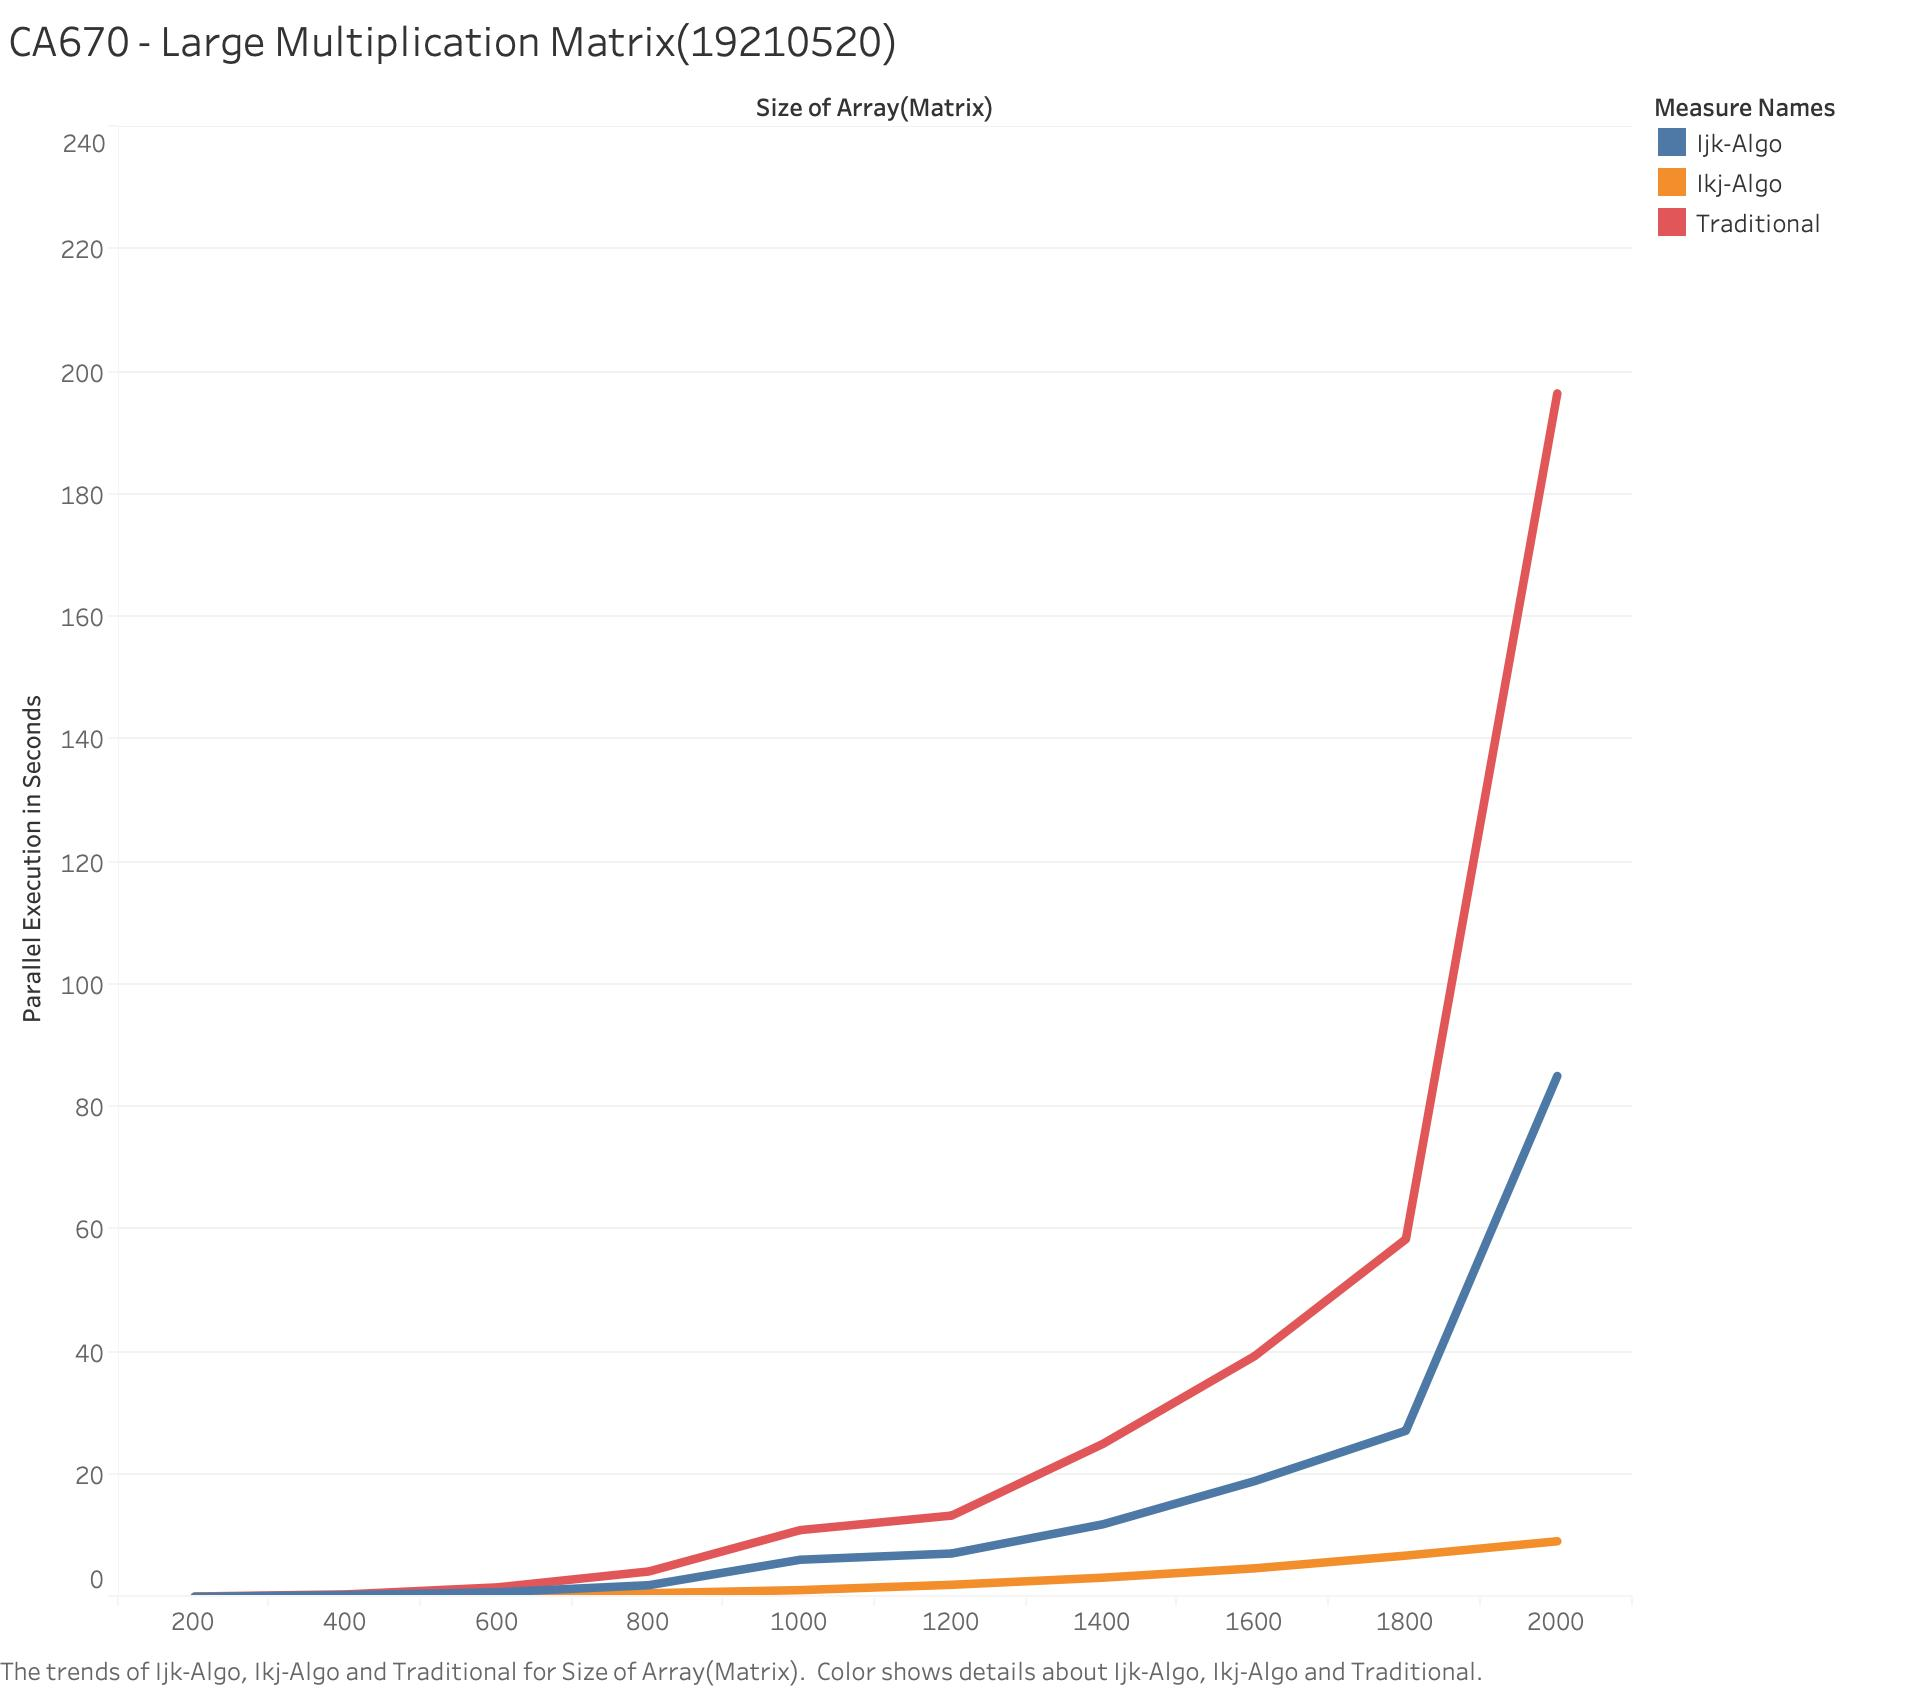

The page's visual inventory and layout, read from the dashboard file:
{"tool":"tableau","page":{"name":"Dashboard 1","canvas":[1000,800],"ordinal":0},"visuals":[{"type":"worksheet","title":"Sheet 2","mark":"Line","cols":["Size of Array(Matrix)"],"box":[8,8,824,784]},{"type":"legend","title":"Sheet 2","param":"[federated.14tcrd21yv5hyd11ll0qo0r66rm2].[:Measure Names]","box":[832,8,160,86]}]}

Visuals, with their boxes in screenshot pixels (x1, y1, x2, y2):
"Sheet 2" worksheet (Line marks): rect(26, 36, 1654, 1585)
"Sheet 2" legend: rect(1654, 36, 1931, 206)
